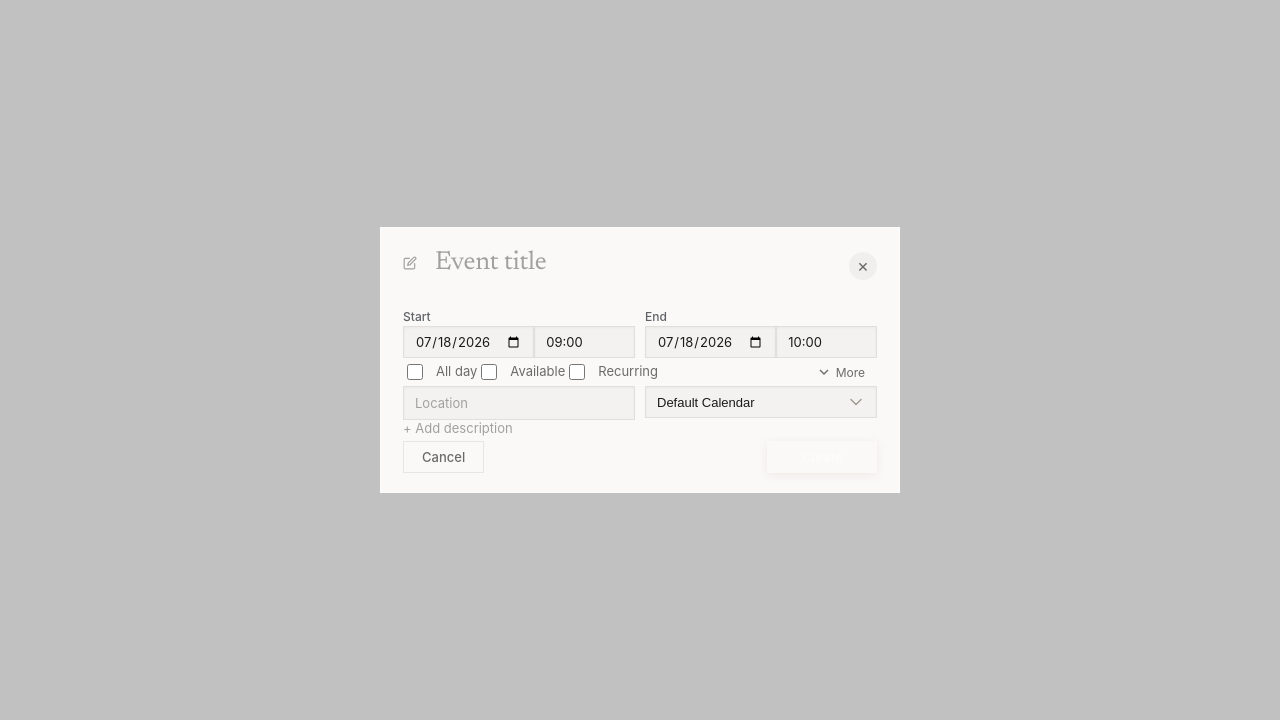
Scenario: EventModal › renders description textarea
Step 1. Click the button "+ Add description" → [458, 428], box [403,420,877,436]
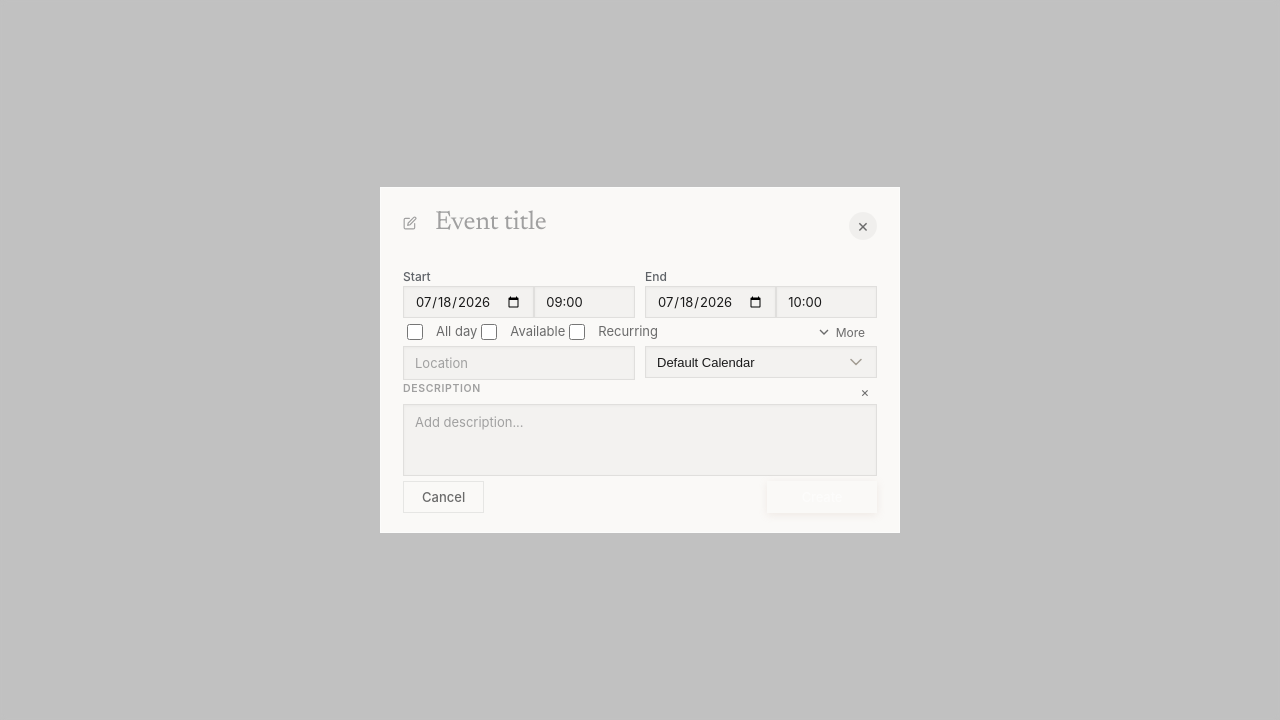
Expected: the text box with placeholder "Add description..." is shown, [403,404,877,476]
